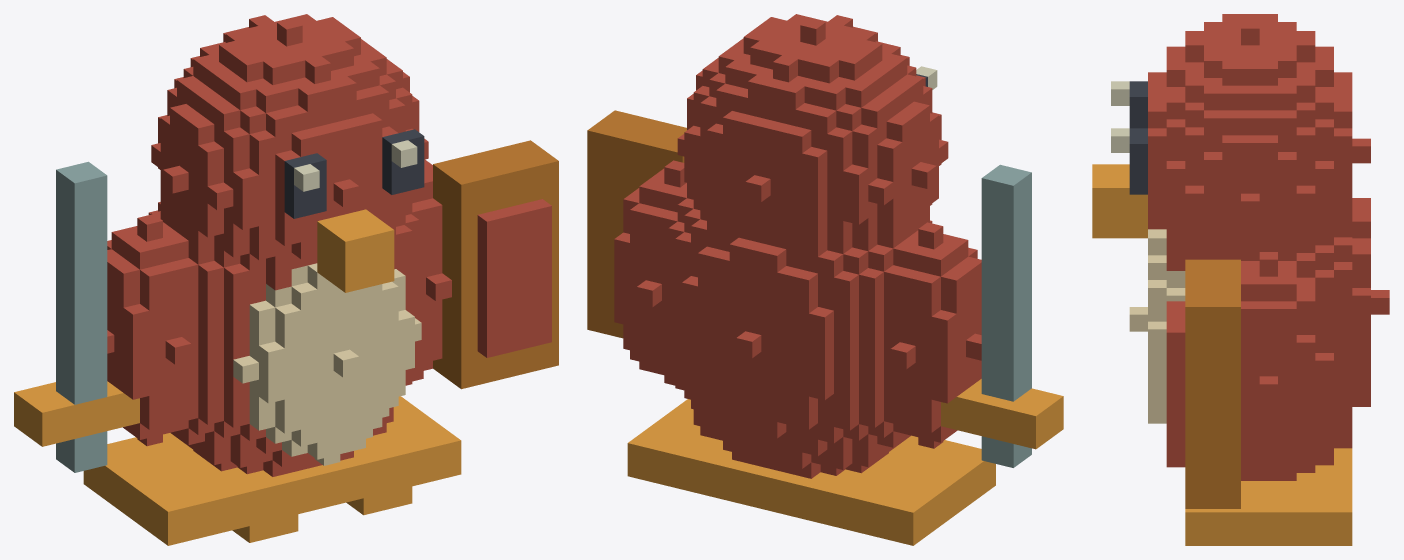
The model's file is voxel_32_10279.glb.
3 views of the same model, side by side, from view 1: azimuth 30°, elevation 25°; view 2: azimuth 150°, elevation 25°; view 3: azimuth 270°, elevation 25° (orthographic). The views are drawn at different scales.
Visible parts, largest first — view 1: prop_10279; view 2: prop_10279; view 3: prop_10279.
Boxes of the visible parts, x1,y1,x2,y2 form: prop_10279: (14,14,558,545); prop_10279: (587,14,1063,545); prop_10279: (1092,14,1389,545).
Bounding box in the file's own units: 0.7781 × 0.7262 × 0.415.
